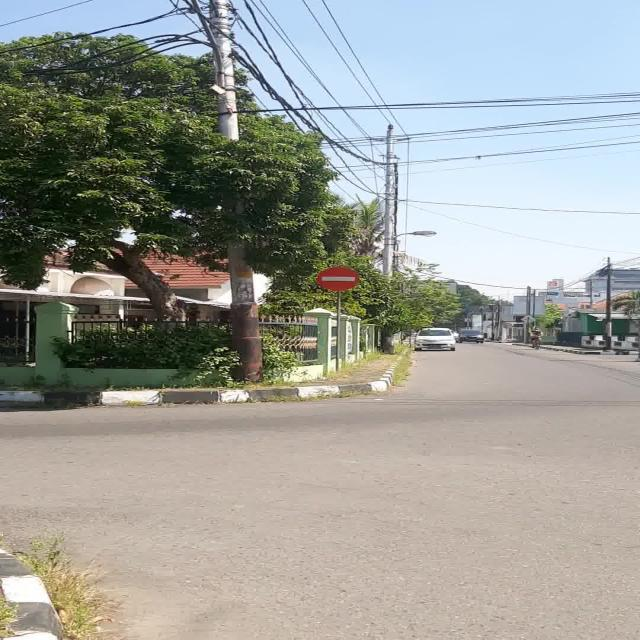Dilarang Masuk: (317, 266, 359, 290)
